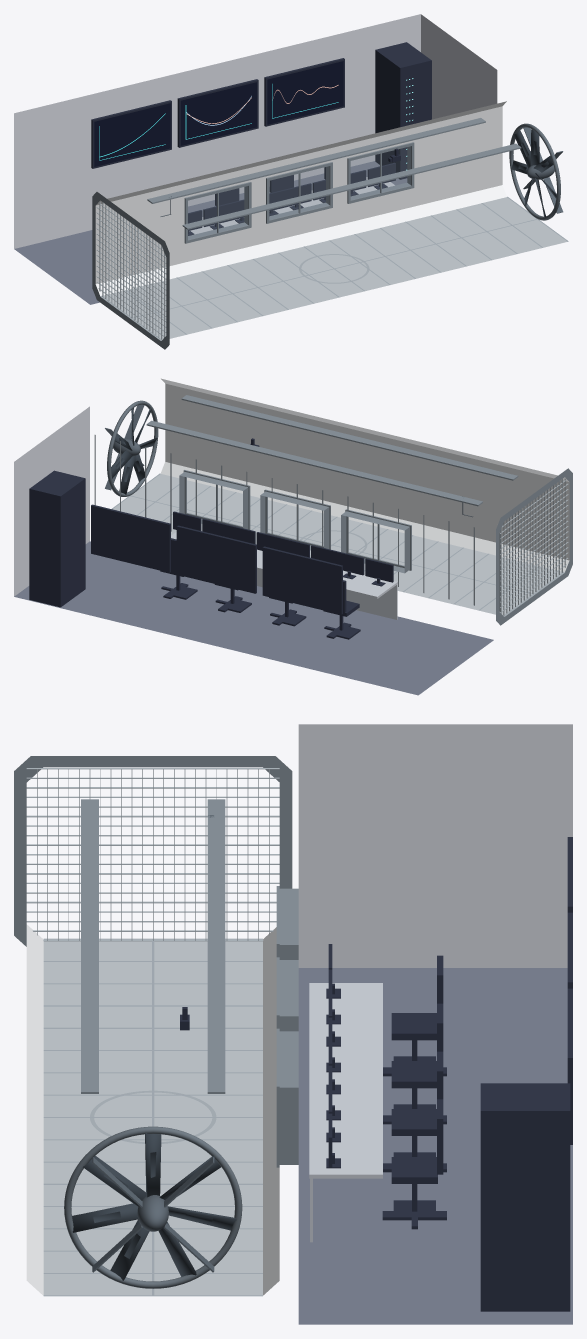
The model's file is tunnel-university.glb.
3 renders of one model, top to bottom at view 1: azimuth 30°, elevation 25°; view 2: azimuth 150°, elevation 25°; view 3: azimuth 270°, elevation 25°, orthographic. The views are drawn at different scales.
Visible parts, largest first — view 1: RoomWalls, Shell, FarWall, RoomDisplays, RoomKit, WindowGlass, Screen, LightHousings, RoomFloor, WindowFrames, Seams, InletLip (+5 smaller); view 2: Shell, RoomKit, RoomFloor, RoomWalls, Screen, LightHousings, Seams, WindowReveals, Desk, InletLip, WindowFrames, FanRotor (+1 smaller); view 3: Shell, RoomWalls, RoomFloor, RoomKit, Desk, Screen, LightHousings, InletLip, FanRotor, Seams, WindowReveals, FanRing (+3 smaller).
Part boxes in pixels (x1,y1,x2,y2): RoomWalls: (14, 14, 497, 248); Shell: (95, 101, 567, 340); FarWall: (95, 106, 502, 283); RoomDisplays: (94, 61, 343, 166); RoomKit: (91, 42, 431, 235); WindowGlass: (188, 147, 410, 238); Screen: (96, 202, 166, 339); LightHousings: (147, 118, 521, 229); RoomFloor: (14, 161, 407, 304); WindowFrames: (184, 142, 414, 243); Seams: (100, 196, 568, 340); InletLip: (92, 192, 169, 349); Shell: (113, 378, 569, 615); RoomKit: (29, 470, 393, 639); RoomFloor: (14, 541, 493, 695); RoomWalls: (14, 406, 89, 596); Screen: (497, 478, 568, 615); LightHousings: (146, 395, 518, 506); Seams: (94, 435, 564, 616); WindowReveals: (179, 471, 409, 573); Desk: (171, 532, 397, 619); InletLip: (496, 468, 572, 625); WindowFrames: (183, 470, 411, 570); FanRotor: (111, 408, 157, 494); Shell: (26, 924, 279, 1295); RoomWalls: (298, 724, 572, 967); RoomFloor: (298, 968, 572, 1324); RoomKit: (326, 837, 572, 1311); Desk: (309, 983, 382, 1242); Screen: (26, 768, 279, 941); LightHousings: (81, 799, 225, 1093); InletLip: (14, 756, 292, 946); FanRotor: (72, 1133, 236, 1280); Seams: (43, 938, 262, 1296); WindowReveals: (279, 888, 298, 1164); FanRing: (64, 1126, 242, 1288).
Size of the model in its own units: 8.35 by 2.55 by 5.3.
